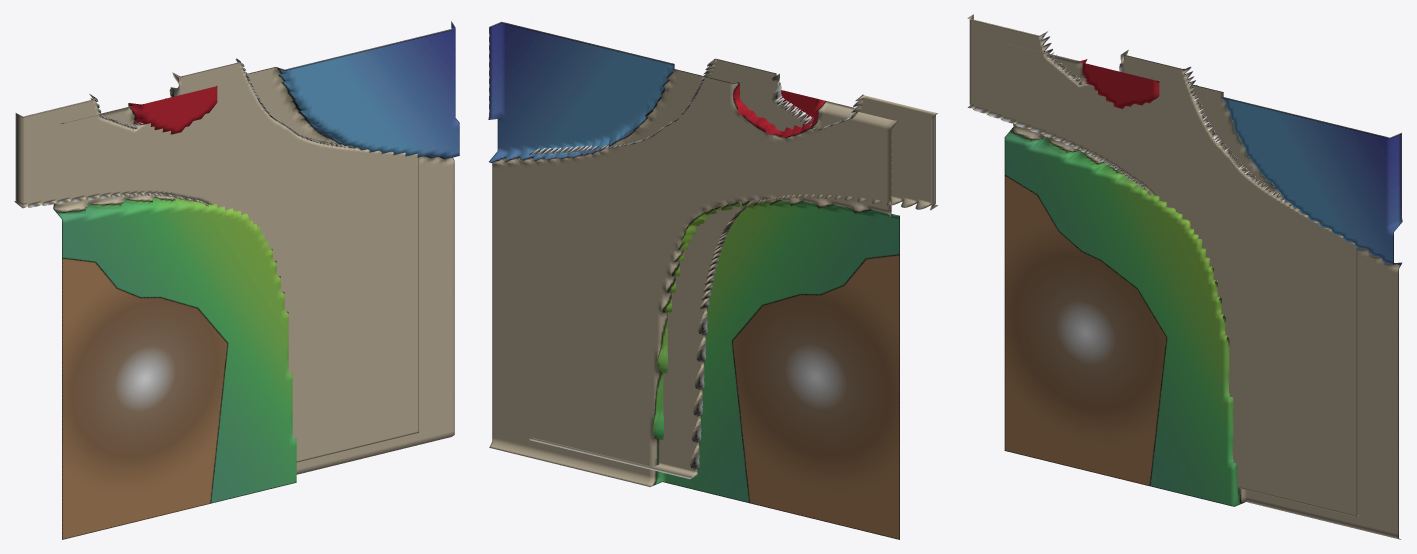
3 renders of one model, left to right at view 1: azimuth 30°, elevation 25°; view 2: azimuth 150°, elevation 25°; view 3: azimuth 330°, elevation 25°, orthographic. The views are drawn at different scales.
Visible parts, largest first — view 1: Plane002, Plane001; view 2: Plane002, Plane001; view 3: Plane002, Plane001.
Boxes of the visible parts, box(x1,y1,x2,y2) form: Plane002: box(53, 21, 459, 539); Plane001: box(14, 58, 418, 462); Plane002: box(488, 21, 899, 539); Plane001: box(528, 58, 938, 478); Plane002: box(1004, 43, 1402, 539); Plane001: box(967, 14, 1359, 517).
Bounding box in the file's own units: 549 × 520 × 20.21.
2 materials, 2 textured.
